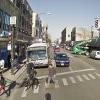Crosswalk: (40, 73, 100, 92)
